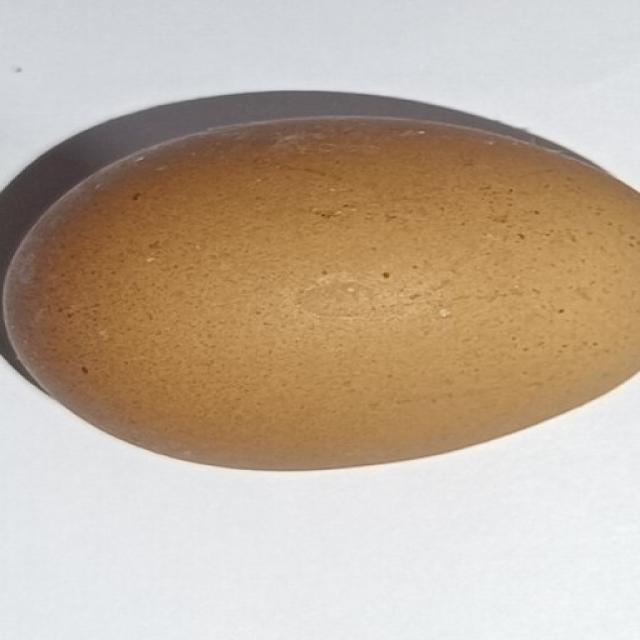unfresh: (1, 112, 640, 472)
